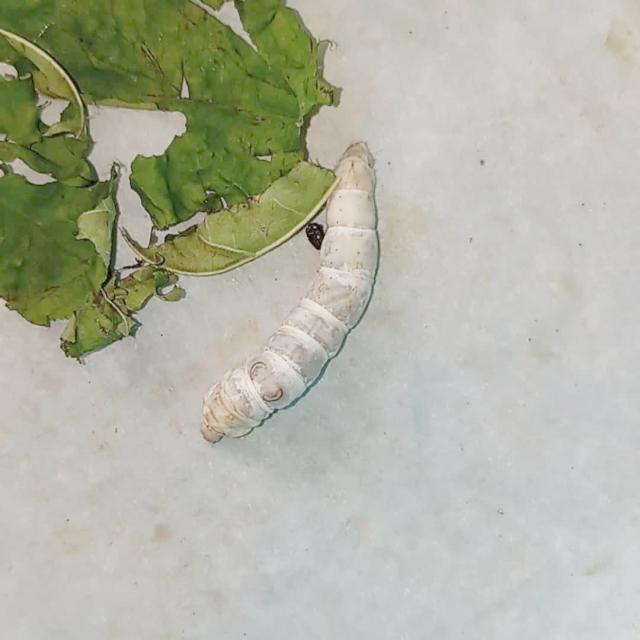Grasserie: (189, 141, 410, 459)
